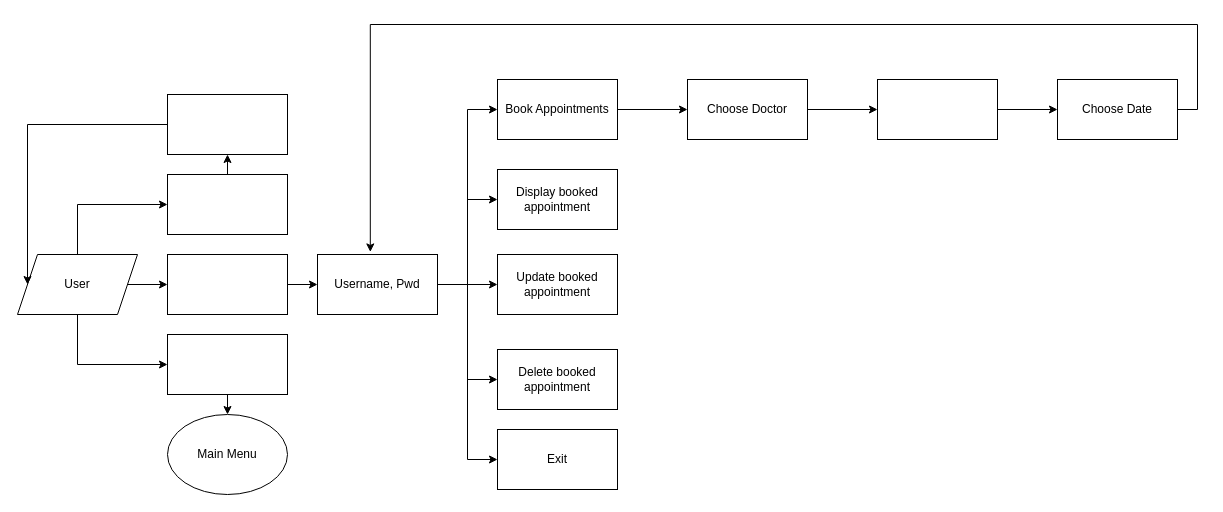
Some shapes in this 1223 by 512 pixel diagram are drawn without their labels. Each missing label, with the centre of its shape:
"Login" goes at pixel 227 284.
"Logout" goes at pixel 227 364.
"Make your own username, pwd" goes at pixel 227 124.
"Reason" goes at pixel 937 109.
"Register(Name, Age, Gender, Address, Phone #)" goes at pixel 227 204.
